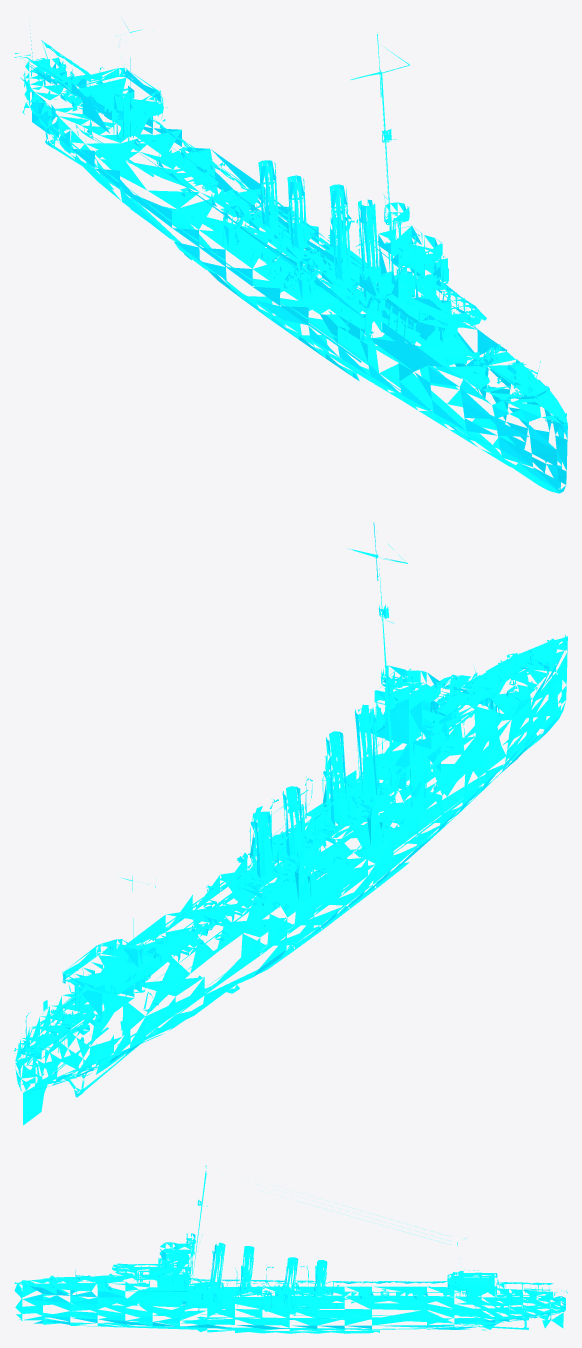
The model's file is Enseigne_Gabolde.glb.
The picture shows the model from 3 angles, top to bottom: view 1: azimuth 30°, elevation 25°; view 2: azimuth 150°, elevation 25°; view 3: azimuth 270°, elevation 25°; orthographic projection. The views are drawn at different scales.
Size of the model in its own units: 0.5715 by 1.94 by 5.53.
